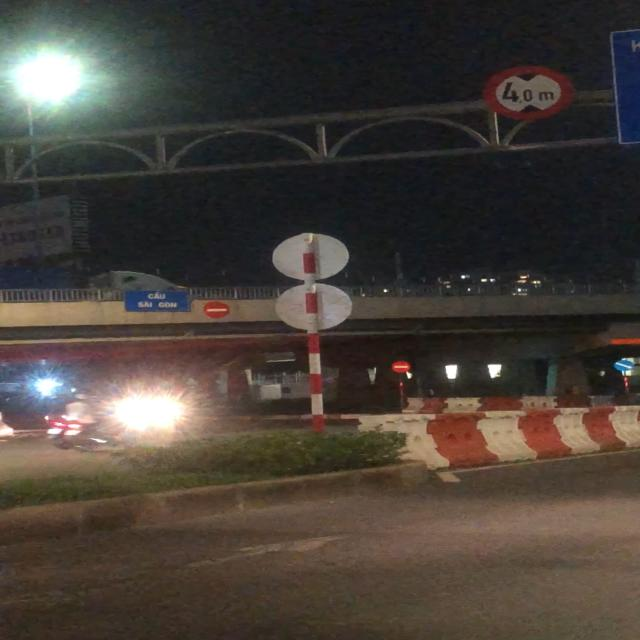Bien bao cam di nguoc chieu: (200, 299, 237, 320), (389, 360, 412, 373)
Bien bao han che chieu cao: (482, 61, 578, 119)
Bien bao huong phai di vong chuong ngai vat: (613, 358, 636, 372)
